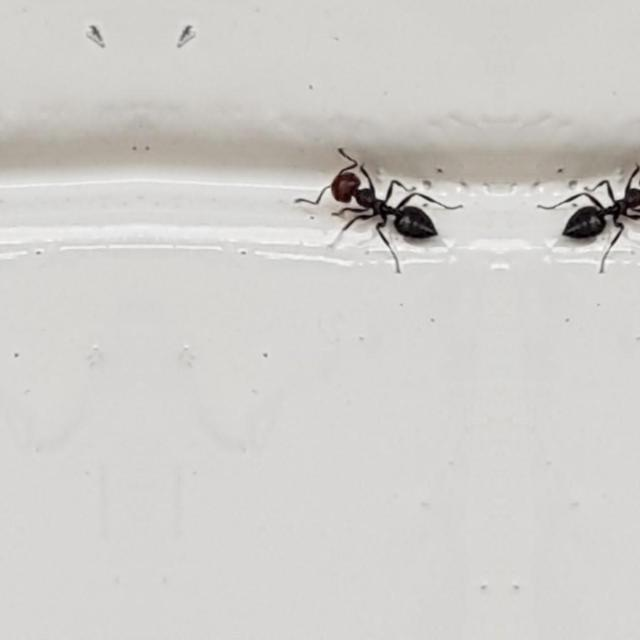Crematogaster: (318, 153, 438, 249), (561, 153, 640, 249)
